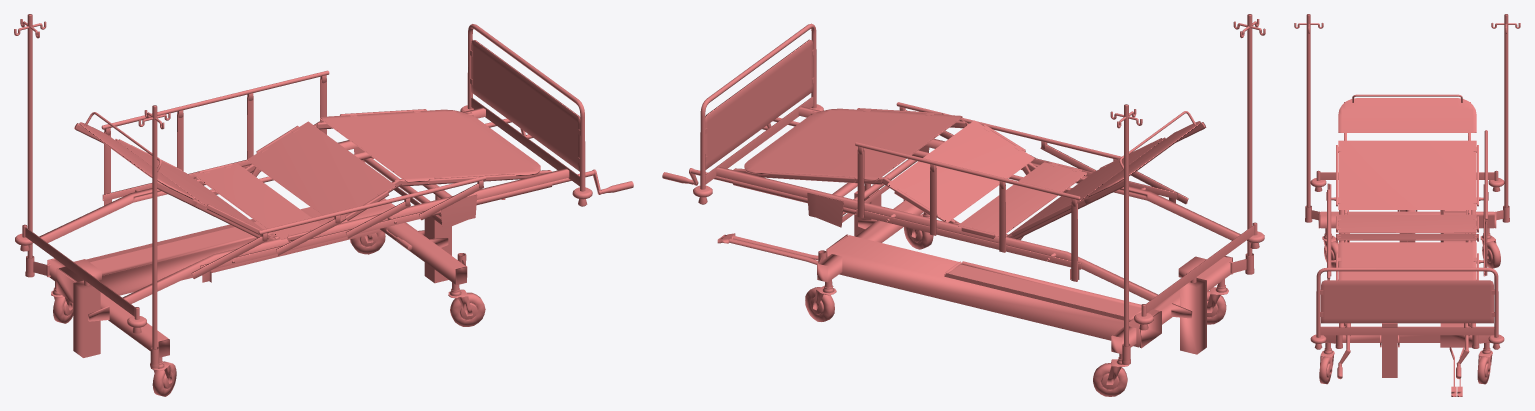
File: BrancardModel.fbx
3 views of the same model, side by side, from view 1: azimuth 30°, elevation 25°; view 2: azimuth 150°, elevation 25°; view 3: azimuth 270°, elevation 25° (orthographic). The views are drawn at different scales.
Parts seen in each view (by area): view 1: PlancheE_low, PlancheD_low, PlancheF_low, BarriereA_low, CadreB_low, PlancheC_low, BarriereB_low, RailA_low, Etagere_low, PistonA_low, CadreA_low, PerfA_low1 (+14 smaller); view 2: PlancheE_low, CadreB_low, PlancheD_low, PlancheF_low, BarriereB_low, Etagere_low, RailB_low, PlancheC_low, BarriereA_low, PistonA_low, TubeCD_low, RailA_low (+15 smaller); view 3: PlancheB_low, PlancheF_low, PlancheE_low, PlancheA_low, PlancheC_low, TubeCD_low, ArmatureB_low, PlancheD_low, PerfA_low1, PerfB_low1, CadreC_low, CadreA_low (+11 smaller).
Part boxes in pixels (x1,y1,x2,y2): PlancheE_low: (320, 109, 540, 182); PlancheD_low: (247, 121, 395, 221); PlancheF_low: (471, 40, 580, 171); BarriereA_low: (191, 176, 486, 282); CadreB_low: (56, 198, 395, 302); PlancheC_low: (194, 163, 321, 239); BarriereB_low: (101, 70, 329, 205); RailA_low: (122, 168, 569, 303); Etagere_low: (86, 219, 272, 275); PistonA_low: (73, 280, 109, 357); CadreA_low: (379, 212, 466, 285); PerfA_low1: (138, 105, 170, 349); PlancheE_low: (744, 108, 962, 181); CadreB_low: (826, 234, 1161, 348); PlancheD_low: (887, 120, 1034, 222); PlancheF_low: (705, 39, 813, 169); BarriereB_low: (855, 142, 1081, 281); Etagere_low: (944, 261, 1141, 321); RailB_low: (716, 167, 1157, 300); PlancheC_low: (958, 162, 1086, 237); BarriereA_low: (896, 102, 1188, 204); PistonA_low: (1171, 277, 1206, 354); TubeCD_low: (698, 23, 816, 204); RailA_low: (798, 106, 1240, 240); PlancheB_low: (1338, 140, 1476, 209); PlancheF_low: (1321, 280, 1493, 323); PlancheE_low: (1338, 242, 1476, 280); PlancheA_low: (1338, 98, 1476, 132); PlancheC_low: (1338, 214, 1476, 232); TubeCD_low: (1314, 267, 1500, 349); ArmatureB_low: (1320, 327, 1494, 335); PlancheD_low: (1338, 233, 1476, 240); PerfA_low1: (1294, 14, 1323, 207); PerfB_low1: (1491, 14, 1520, 207); CadreC_low: (1318, 211, 1496, 228); CadreA_low: (1320, 326, 1494, 342).
Size of the model in its own units: 239 by 136 by 114.
